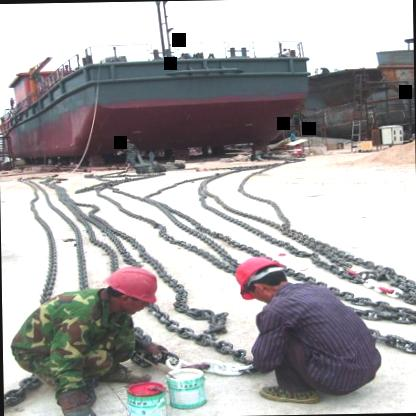helmet: (96, 262, 165, 318), (230, 253, 292, 301)
